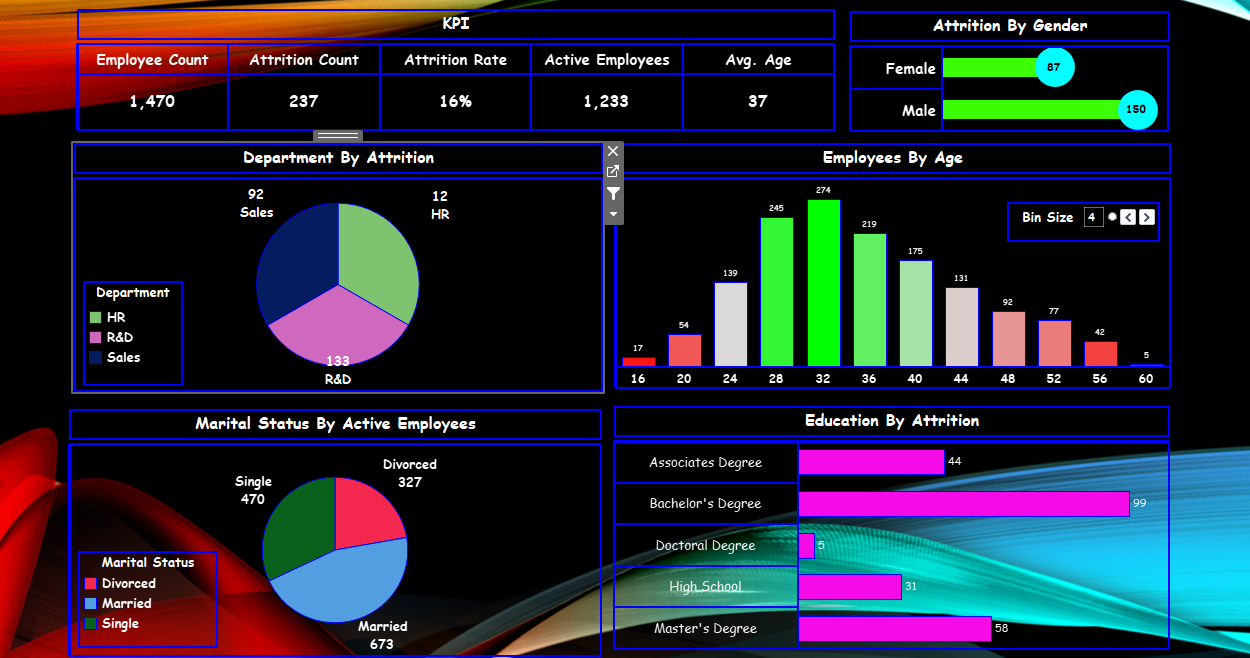

What the dashboard file says about the page in this screenshot:
{"tool":"tableau","page":{"name":"HR_Analytics Dashboard","canvas":[1000,1000],"units":"permille","ordinal":0},"visuals":[{"type":"image","param":"C:/Users/Muhammad Uzair/Documents/My Tableau Repository/Workbooks/HR Analytics/P","box":[2.6,8.5,999.1,984.8]},{"type":"worksheet","title":"KPI","mark":"Automatic","box":[15.9,22,671.7,181.1]},{"type":"worksheet","title":"Attrition By Gender","mark":"Automatic","rows":["Gender"],"cols":["Calculation_736057110808440832","Calculation_736057110808440832"],"box":[702.6,22,284.1,179.4]},{"type":"worksheet","title":"Department By Attrition","mark":"Pie","box":[14.2,223.3,469,368.9]},{"type":"worksheet","title":"Employees By Age","mark":"Automatic","rows":["Employee Count"],"cols":["Age (bin)"],"box":[492.9,226.7,492.9,363.8]},{"type":"parameter","param":"[Parameters].[Parameter 1]","box":[848.7,294.4,135.4,59.2]},{"type":"legend","title":"Department By Attrition","param":"[federated.1p49kbt0v2scu212jkw830tb7pne].[none:Department:nk]","box":[35.4,424.7,88.5,155.7]},{"type":"worksheet","title":"Marital Status By Active Employees","mark":"Pie","box":[12.4,610.8,472.6,367.2]},{"type":"worksheet","title":"Education By Attrition","mark":"Automatic","rows":["Education"],"cols":["Calculation_736057110808440832"],"box":[492.9,612.5,492.9,362.1]},{"type":"legend","title":"Marital Status By Active Employees","param":"[federated.1p49kbt0v2scu212jkw830tb7pne].[none:Marital Status:nk]","box":[22.1,824,123.9,143.8]}]}

Visuals, with their boxes on the dashboard's canvas, which has no fixed pixel size, in thousandths of its width and height (x1, y1, x2, y2). These are canvas units, not pixel positions in the 1250x658 screenshot, which may show the page scaled, cropped or inside an application window:
image: [x1=3, y1=8, x2=1002, y2=993]
"KPI" worksheet: [x1=16, y1=22, x2=688, y2=203]
"Attrition By Gender" worksheet: [x1=703, y1=22, x2=987, y2=201]
"Department By Attrition" worksheet (Pie marks): [x1=14, y1=223, x2=483, y2=592]
"Employees By Age" worksheet: [x1=493, y1=227, x2=986, y2=590]
parameter: [x1=849, y1=294, x2=984, y2=354]
"Department By Attrition" legend: [x1=35, y1=425, x2=124, y2=580]
"Marital Status By Active Employees" worksheet (Pie marks): [x1=12, y1=611, x2=485, y2=978]
"Education By Attrition" worksheet: [x1=493, y1=612, x2=986, y2=975]
"Marital Status By Active Employees" legend: [x1=22, y1=824, x2=146, y2=968]
